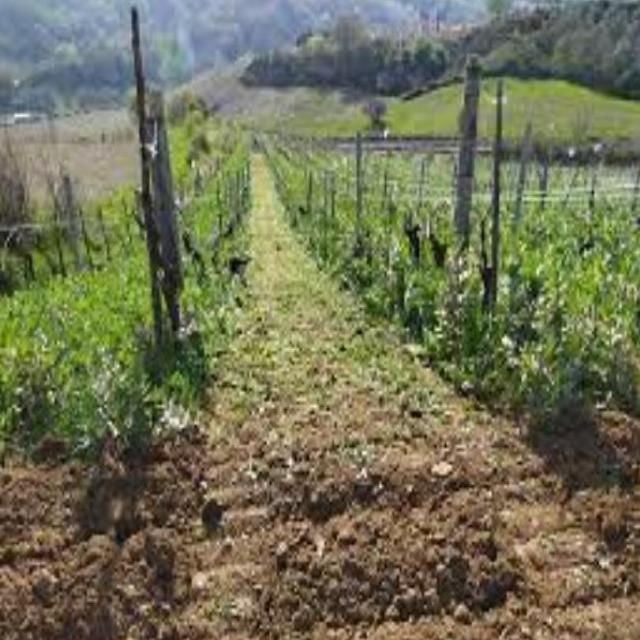row: (168, 139, 511, 443), (0, 138, 249, 440)
